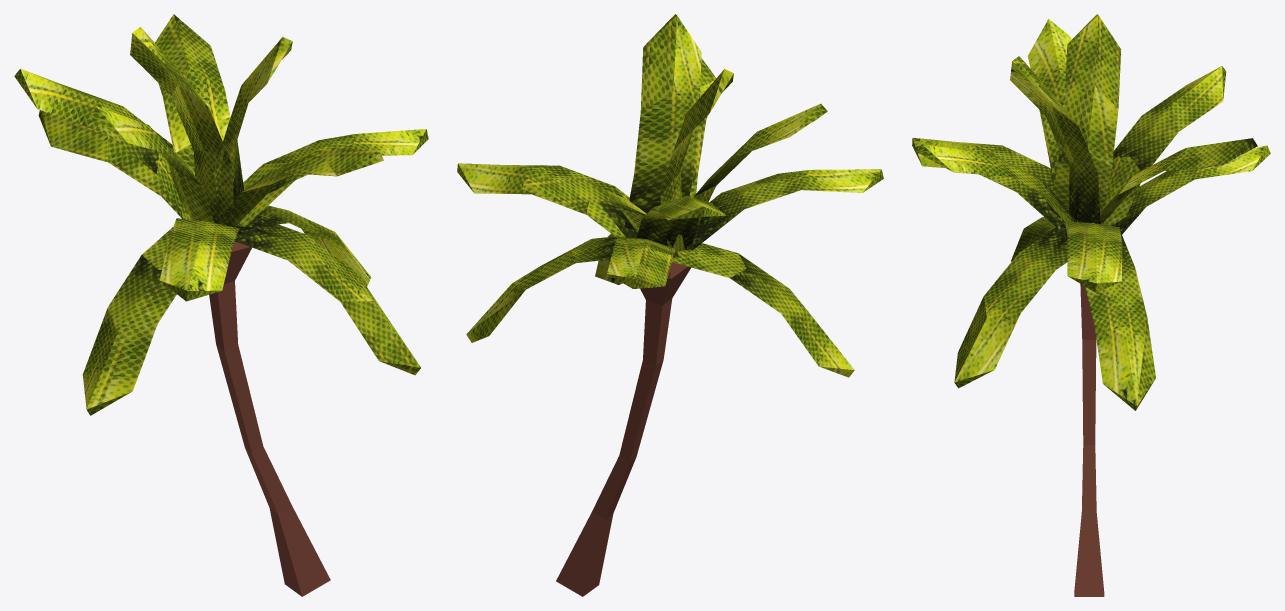
The model's file is SM_DesertTree_A.fbx.
The picture shows the model from 3 angles, left to right: view 1: azimuth 30°, elevation 25°; view 2: azimuth 150°, elevation 25°; view 3: azimuth 270°, elevation 25°; orthographic projection. The views are drawn at different scales.
Parts seen in each view (by area): view 1: SM_DesertTree_A; view 2: SM_DesertTree_A; view 3: SM_DesertTree_A.
Part boxes in pixels (x1=…): SM_DesertTree_A: x1=14, y1=14, x2=428, y2=596; SM_DesertTree_A: x1=457, y1=14, x2=883, y2=596; SM_DesertTree_A: x1=912, y1=14, x2=1270, y2=596.
Bounding box in the file's own units: 230 × 342 × 216.
